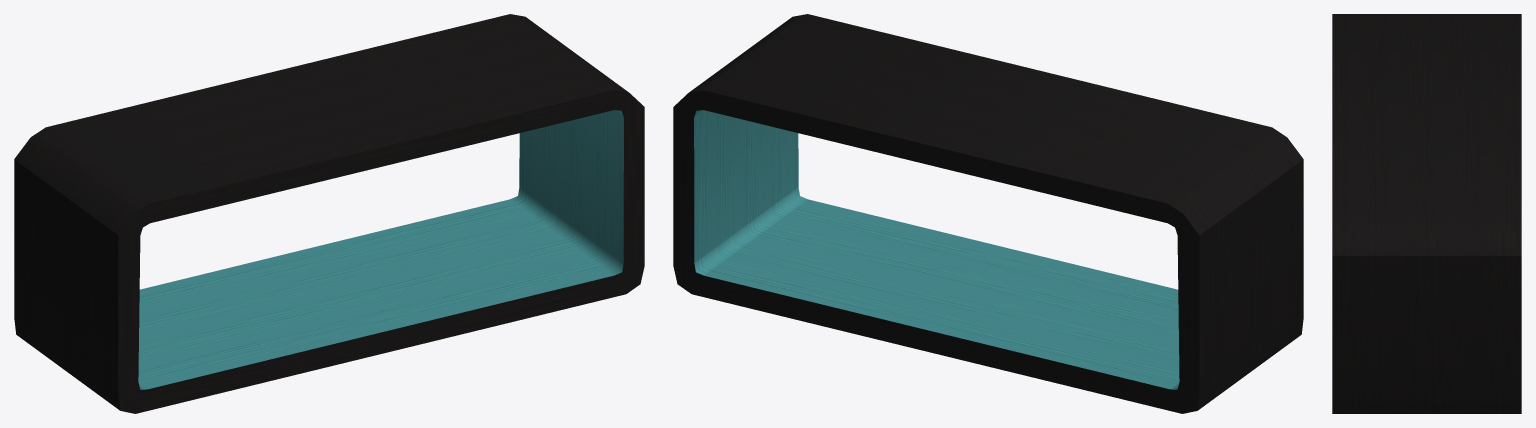
File: Wall_Shelf_01_C.FBX
The picture shows the model from 3 angles, left to right: view 1: azimuth 30°, elevation 25°; view 2: azimuth 150°, elevation 25°; view 3: azimuth 270°, elevation 25°; orthographic projection. The views are drawn at different scales.
Parts seen in each view (by area): view 1: Wall_Shelf; view 2: Wall_Shelf; view 3: Wall_Shelf.
Part boxes in pixels (x1=…): Wall_Shelf: x1=14, y1=14, x2=644, y2=413; Wall_Shelf: x1=673, y1=14, x2=1303, y2=413; Wall_Shelf: x1=1332, y1=14, x2=1521, y2=413.
Size of the model in its own units: 160 by 60.21 by 54.97.
